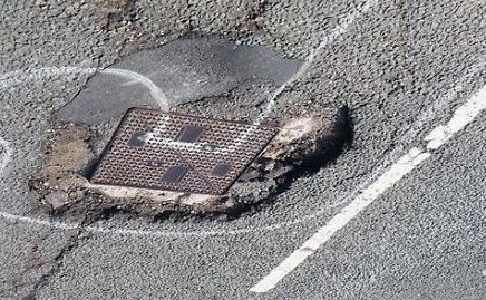pothole: (22, 102, 357, 228)
